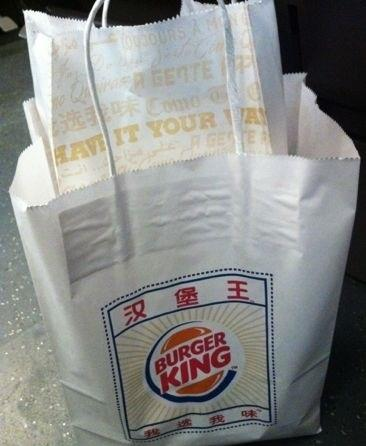Burger_King: (150, 322, 239, 406)
